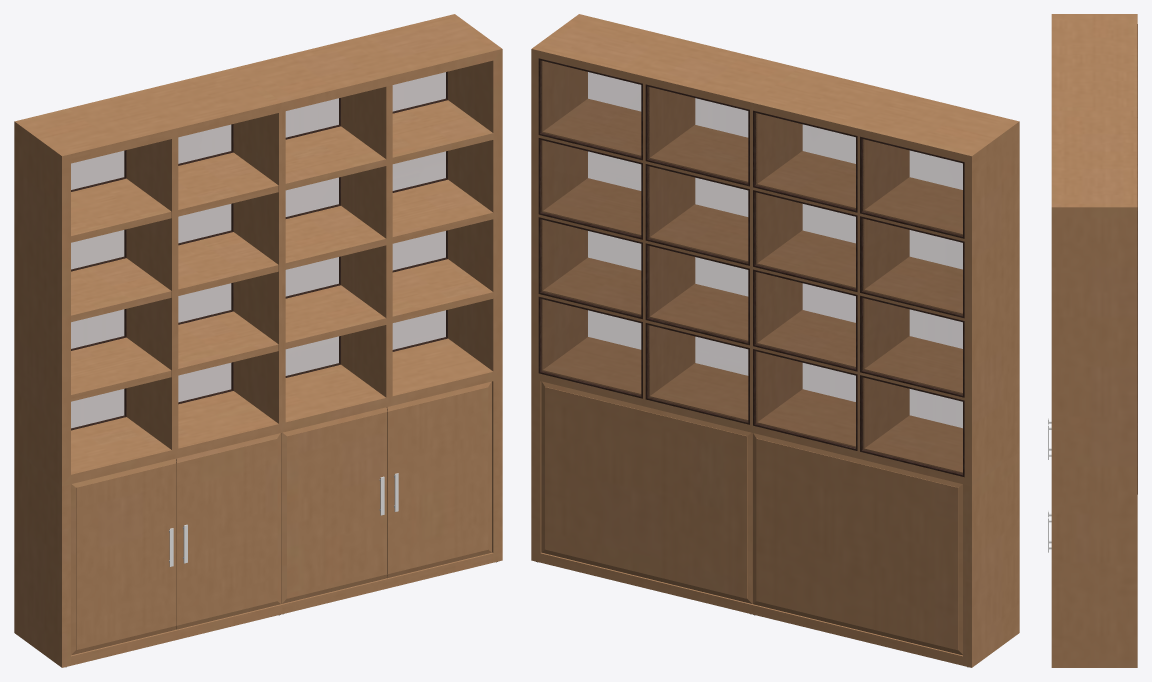
The model's file is obj_bar_shelves_0aaa38.glb.
3 renders of one model, left to right at view 1: azimuth 30°, elevation 25°; view 2: azimuth 150°, elevation 25°; view 3: azimuth 270°, elevation 25°, orthographic. The views are drawn at different scales.
Parts seen in each view (by area): view 1: obj_bar_shelves_0aaa38; view 2: obj_bar_shelves_0aaa38; view 3: obj_bar_shelves_0aaa38.
Part boxes in pixels (bbox=[...]): obj_bar_shelves_0aaa38: bbox=[14, 14, 502, 667]; obj_bar_shelves_0aaa38: bbox=[531, 14, 1019, 667]; obj_bar_shelves_0aaa38: bbox=[1048, 14, 1137, 667].
Bounding box in the file's own units: 0.3147 × 0.35 × 0.0618.
Materials: 9 (9 with a texture image).
